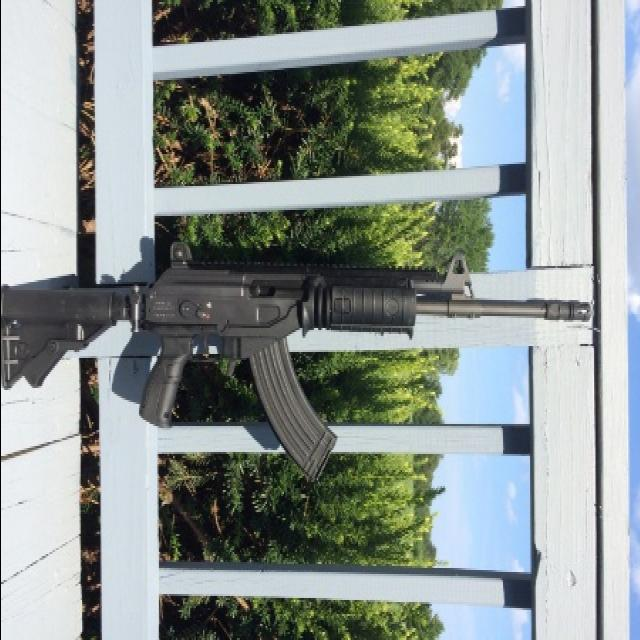rifle: (4, 227, 612, 489)
